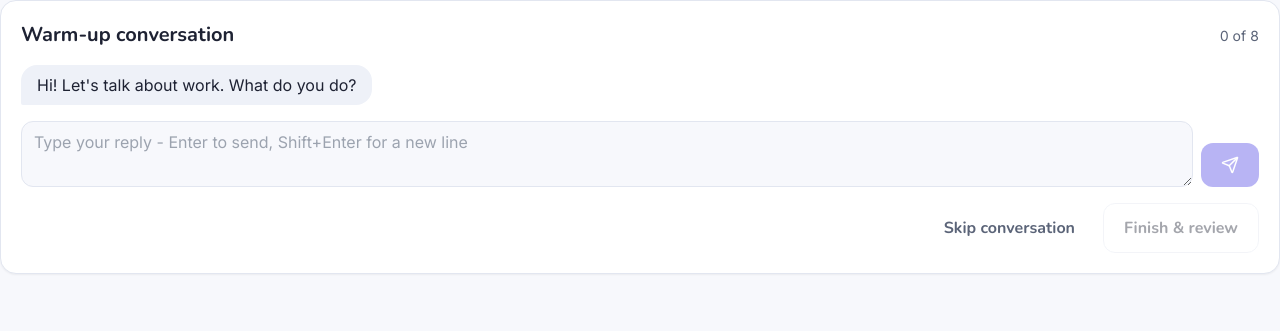
Test case: ConversationPanel › 409 busy removes the learner bubble, restores the text and explains
Type "Second try" into the text box named "Your message" at {"x": 607, "y": 154}, box [21,121,1193,187]
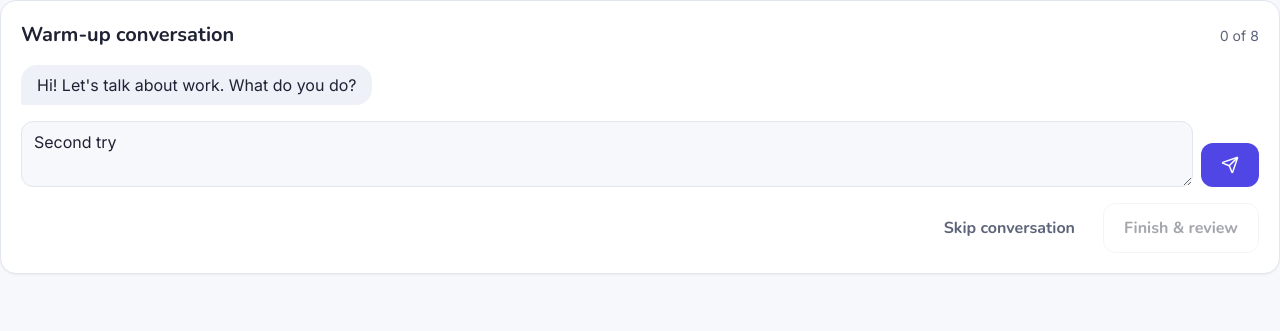
Press Enter in the text box named "Your message", box [21,121,1193,187]
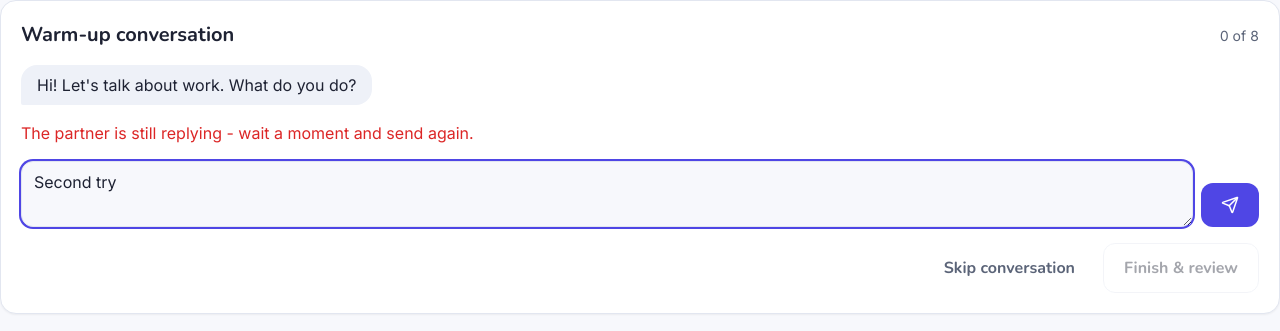
Expected: the text "0 of 8" is shown, [1220,27,1259,44]
Result: the text "The partner is still replying - wait a moment and send again." is shown at [21,123,474,143]
